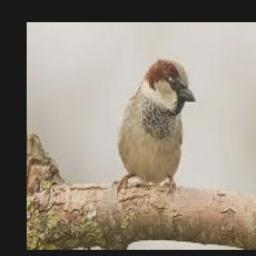Sparrow: (114, 59, 196, 198)
